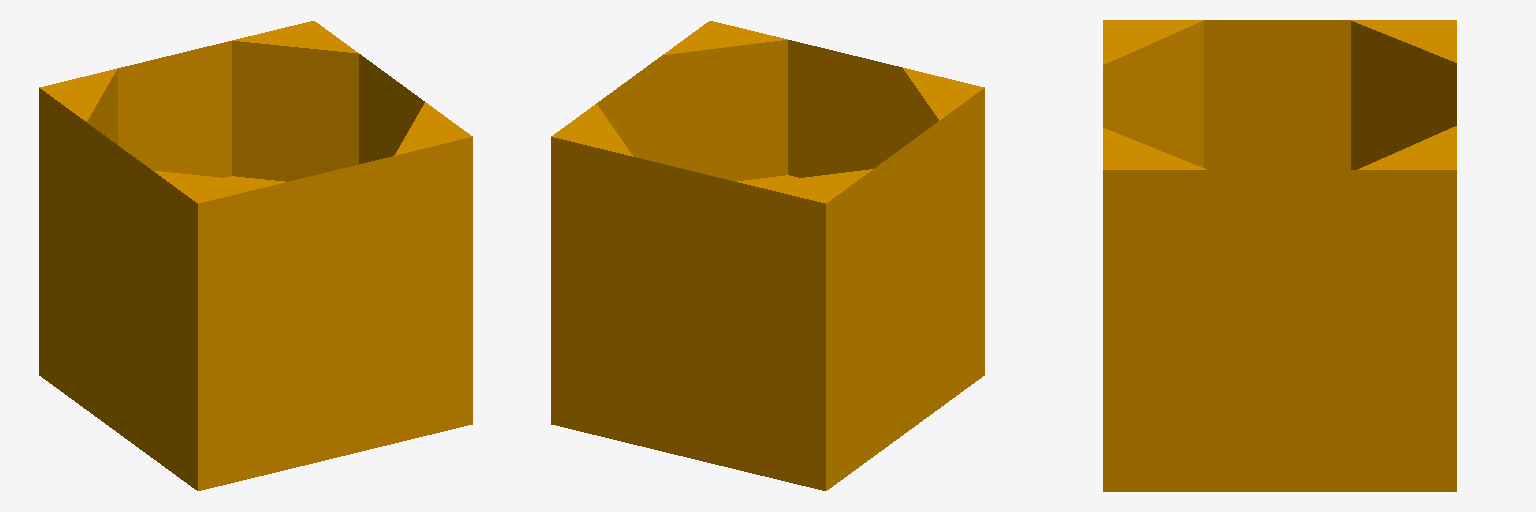
The robot description file, URDF, robot "object":
<?xml version="1.0"?>
<robot name="object">
  <link name="object">
    <visual>
      <origin xyz="0 0 0"/>
      <geometry>
        <mesh filename="meshes/set2/set_obj4_block.obj" scale=".03 .03 .03"/>
      </geometry>
    </visual>
    <collision>
  <origin xyz="0 0 0"/>
  <geometry>
    <mesh filename="meshes/set2/set_obj4_block_0decompose.obj" scale=".03 .03 .03"/>
<!--          <mesh filename="meshes/custom/obj0_ball.obj" scale=".05 .05 .05"/>-->
  </geometry>
</collision><collision>
  <origin xyz="0 0 0"/>
  <geometry>
    <mesh filename="meshes/set2/set_obj4_block_1decompose.obj" scale=".03 .03 .03"/>
<!--          <mesh filename="meshes/custom/obj0_ball.obj" scale=".05 .05 .05"/>-->
  </geometry>
</collision><collision>
  <origin xyz="0 0 0"/>
  <geometry>
    <mesh filename="meshes/set2/set_obj4_block_2decompose.obj" scale=".03 .03 .03"/>
<!--          <mesh filename="meshes/custom/obj0_ball.obj" scale=".05 .05 .05"/>-->
  </geometry>
</collision><collision>
  <origin xyz="0 0 0"/>
  <geometry>
    <mesh filename="meshes/set2/set_obj4_block_3decompose.obj" scale=".03 .03 .03"/>
<!--          <mesh filename="meshes/custom/obj0_ball.obj" scale=".05 .05 .05"/>-->
  </geometry>
</collision><collision>
  <origin xyz="0 0 0"/>
  <geometry>
    <mesh filename="meshes/set2/set_obj4_block_4decompose.obj" scale=".03 .03 .03"/>
<!--          <mesh filename="meshes/custom/obj0_ball.obj" scale=".05 .05 .05"/>-->
  </geometry>
</collision><collision>
  <origin xyz="0 0 0"/>
  <geometry>
    <mesh filename="meshes/set2/set_obj4_block_5decompose.obj" scale=".03 .03 .03"/>
<!--          <mesh filename="meshes/custom/obj0_ball.obj" scale=".05 .05 .05"/>-->
  </geometry>
</collision><collision>
  <origin xyz="0 0 0"/>
  <geometry>
    <mesh filename="meshes/set2/set_obj4_block_6decompose.obj" scale=".03 .03 .03"/>
<!--          <mesh filename="meshes/custom/obj0_ball.obj" scale=".05 .05 .05"/>-->
  </geometry>
</collision><collision>
  <origin xyz="0 0 0"/>
  <geometry>
    <mesh filename="meshes/set2/set_obj4_block_7decompose.obj" scale=".03 .03 .03"/>
<!--          <mesh filename="meshes/custom/obj0_ball.obj" scale=".05 .05 .05"/>-->
  </geometry>
</collision><collision>
  <origin xyz="0 0 0"/>
  <geometry>
    <mesh filename="meshes/set2/set_obj4_block_8decompose.obj" scale=".03 .03 .03"/>
<!--          <mesh filename="meshes/custom/obj0_ball.obj" scale=".05 .05 .05"/>-->
  </geometry>
</collision><collision>
  <origin xyz="0 0 0"/>
  <geometry>
    <mesh filename="meshes/set2/set_obj4_block_9decompose.obj" scale=".03 .03 .03"/>
<!--          <mesh filename="meshes/custom/obj0_ball.obj" scale=".05 .05 .05"/>-->
  </geometry>
</collision><collision>
  <origin xyz="0 0 0"/>
  <geometry>
    <mesh filename="meshes/set2/set_obj4_block_10decompose.obj" scale=".03 .03 .03"/>
<!--          <mesh filename="meshes/custom/obj0_ball.obj" scale=".05 .05 .05"/>-->
  </geometry>
</collision><collision>
  <origin xyz="0 0 0"/>
  <geometry>
    <mesh filename="meshes/set2/set_obj4_block_11decompose.obj" scale=".03 .03 .03"/>
<!--          <mesh filename="meshes/custom/obj0_ball.obj" scale=".05 .05 .05"/>-->
  </geometry>
</collision><collision>
  <origin xyz="0 0 0"/>
  <geometry>
    <mesh filename="meshes/set2/set_obj4_block_12decompose.obj" scale=".03 .03 .03"/>
<!--          <mesh filename="meshes/custom/obj0_ball.obj" scale=".05 .05 .05"/>-->
  </geometry>
</collision><collision>
  <origin xyz="0 0 0"/>
  <geometry>
    <mesh filename="meshes/set2/set_obj4_block_13decompose.obj" scale=".03 .03 .03"/>
<!--          <mesh filename="meshes/custom/obj0_ball.obj" scale=".05 .05 .05"/>-->
  </geometry>
</collision><collision>
  <origin xyz="0 0 0"/>
  <geometry>
    <mesh filename="meshes/set2/set_obj4_block_14decompose.obj" scale=".03 .03 .03"/>
<!--          <mesh filename="meshes/custom/obj0_ball.obj" scale=".05 .05 .05"/>-->
  </geometry>
</collision><collision>
  <origin xyz="0 0 0"/>
  <geometry>
    <mesh filename="meshes/set2/set_obj4_block_15decompose.obj" scale=".03 .03 .03"/>
<!--          <mesh filename="meshes/custom/obj0_ball.obj" scale=".05 .05 .05"/>-->
  </geometry>
</collision>

<!--    <collision>-->
<!--      <origin xyz="0 0 0"/>-->
<!--      <geometry>-->
<!--        <mesh filename="meshes/set2/set_obj4_block.obj" scale=".03 .03 .03"/>-->
<!--&lt;!&ndash;          <mesh filename="meshes/custom/obj0_ball.obj" scale=".05 .05 .05"/>&ndash;&gt;-->
<!--      </geometry>-->
<!--    </collision>-->
    <inertial>
      <density value="1000.0"/>
    </inertial>
  </link>
</robot>

--- What the picture shows (computed from the rendered views, not written in the file) ---
3 views of the same robot in one strip: view 1: azimuth 30°, elevation 25°; view 2: azimuth 150°, elevation 25°; view 3: azimuth 270°, elevation 25° (orthographic).
Model object with 1 links and 0 joints (none), rooted at object, posed every joint at zero.
Visible links, largest first — view 1: object; view 2: object; view 3: object.
Boxes of the visible links, x1=… form: object: x1=39, y1=21, x2=472, y2=490; object: x1=551, y1=21, x2=984, y2=490; object: x1=1103, y1=20, x2=1456, y2=491.
Size in the robot's own frame: 0.06 by 0.06 by 0.06 metres.
1 mesh visuals loaded from 1 distinct referenced files (1 OBJ).